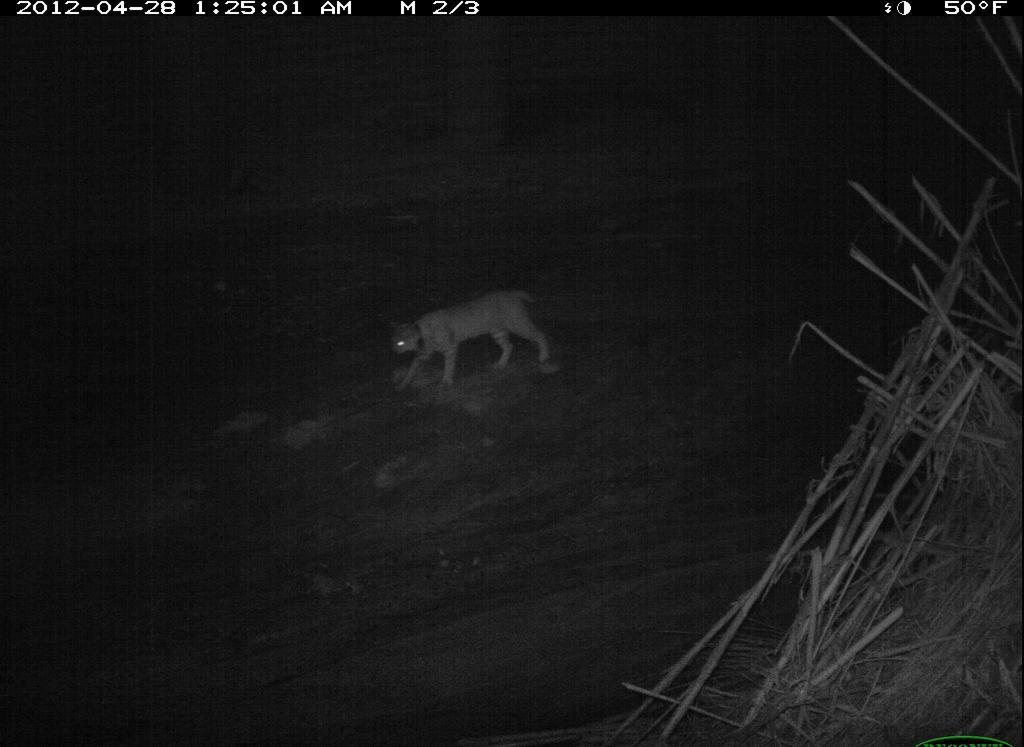bobcat: (386, 285, 558, 398)
